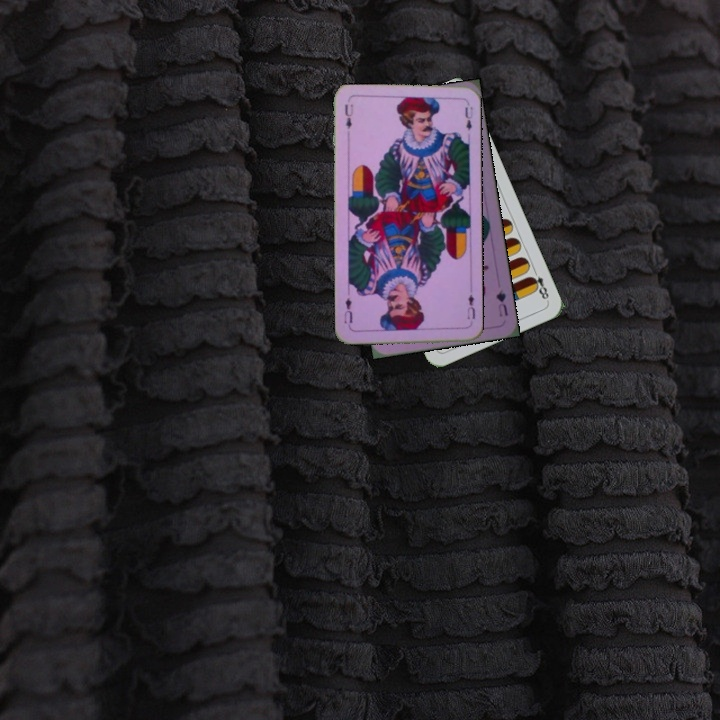E8: (526, 265, 551, 304)
EU: (463, 290, 477, 322), (341, 100, 355, 131)
GU: (492, 286, 510, 320)
